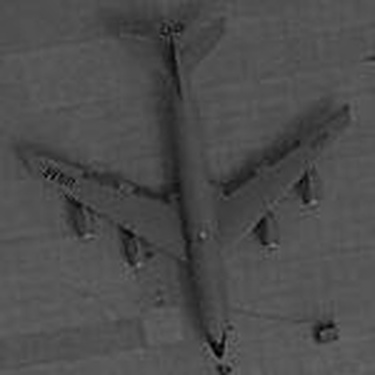airplane: (10, 5, 353, 360)
